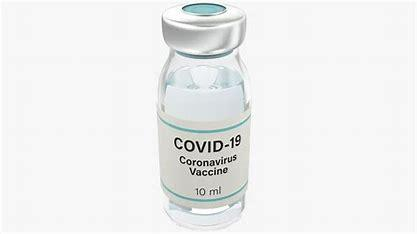Syringe: (147, 4, 254, 232)
